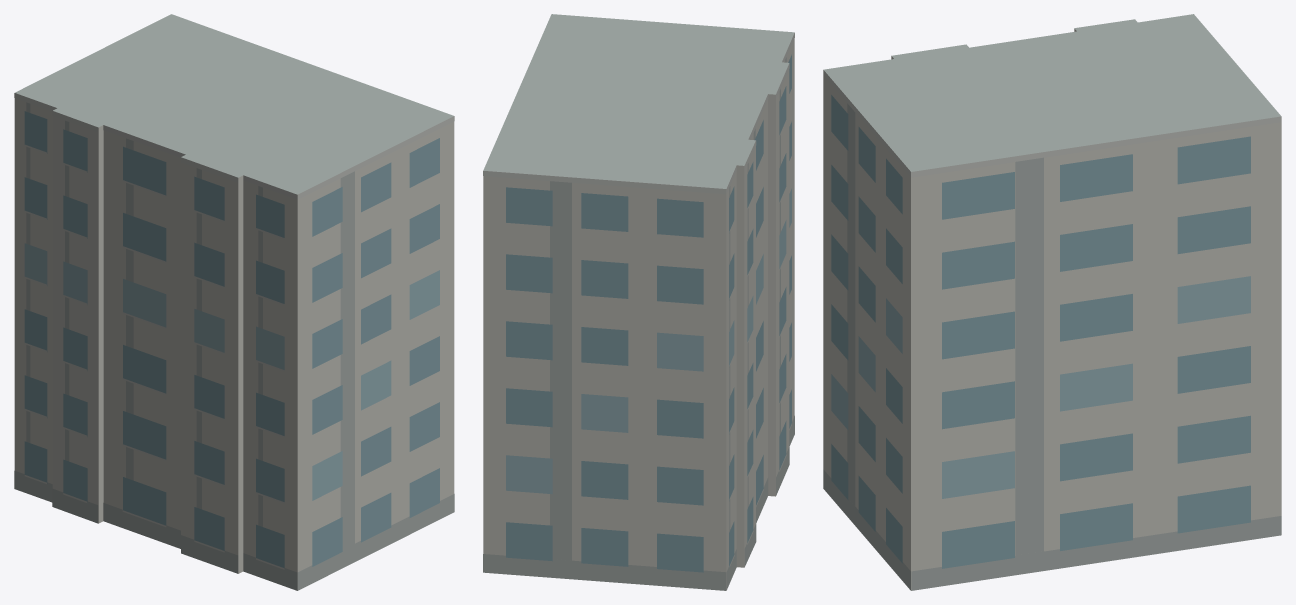
File: survey-upis-32717006.glb
3 views of the same model, side by side, from view 1: azimuth 30°, elevation 25°; view 2: azimuth 150°, elevation 25°; view 3: azimuth 270°, elevation 25° (orthographic). The views are drawn at different scales.
Visible parts, largest first — view 1: survey-upis-32717006.tmp; view 2: survey-upis-32717006.tmp; view 3: survey-upis-32717006.tmp.
Boxes of the visible parts, left/top/right/bottom form: survey-upis-32717006.tmp: left=14, top=14, right=454, bottom=590; survey-upis-32717006.tmp: left=483, top=14, right=794, bottom=590; survey-upis-32717006.tmp: left=823, top=14, right=1281, bottom=590.
Size of the model in its own units: 14.81 by 18.3 by 18.15.
